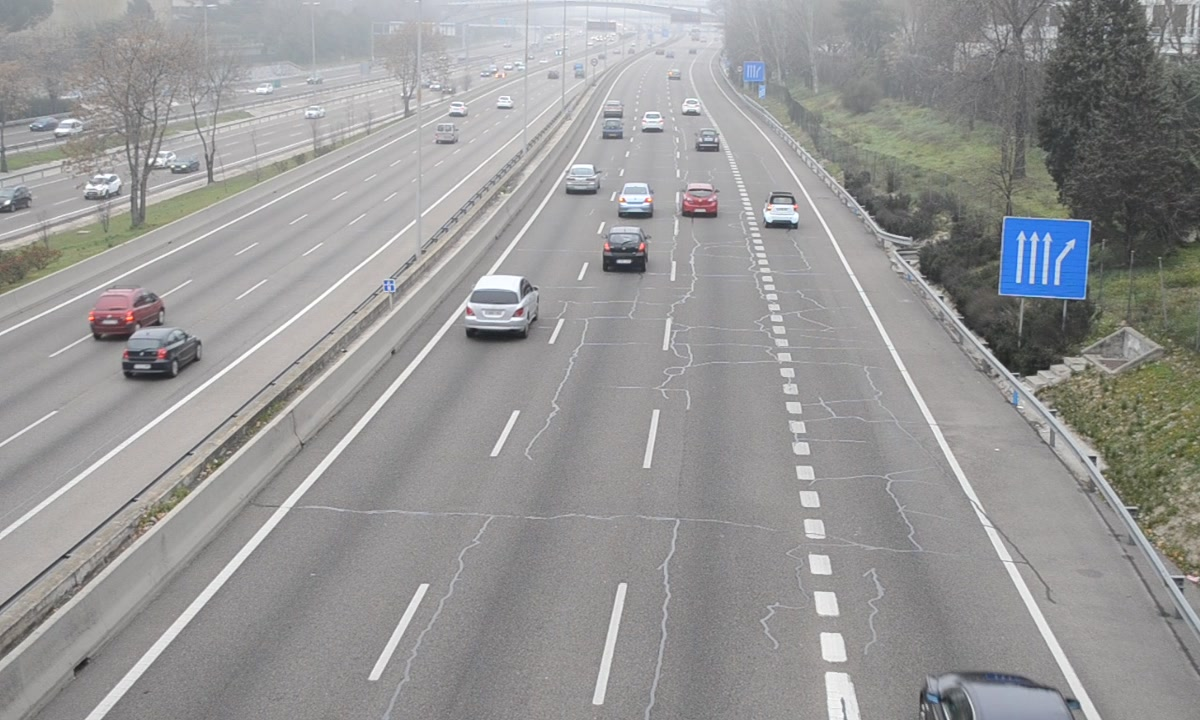car: (463, 273, 540, 334), (602, 227, 650, 273), (764, 190, 799, 230), (683, 182, 720, 219), (618, 182, 654, 219), (565, 165, 602, 197), (695, 129, 722, 153), (639, 110, 665, 133), (600, 118, 625, 141)
